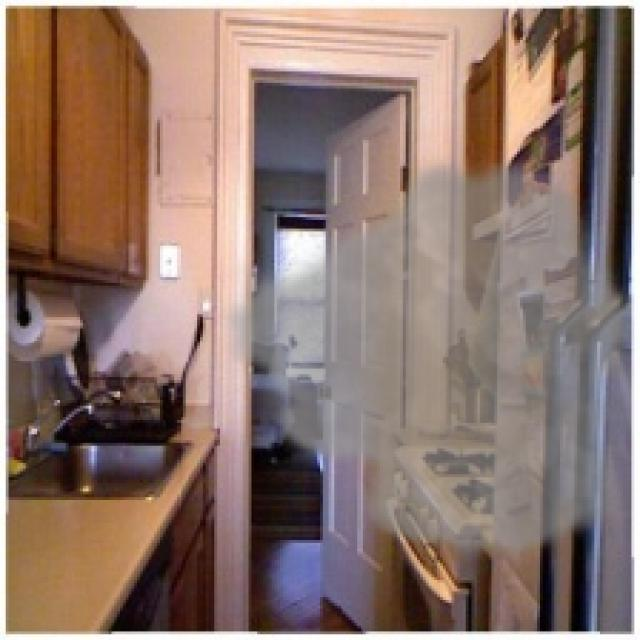Smoke: (214, 145, 637, 566)
